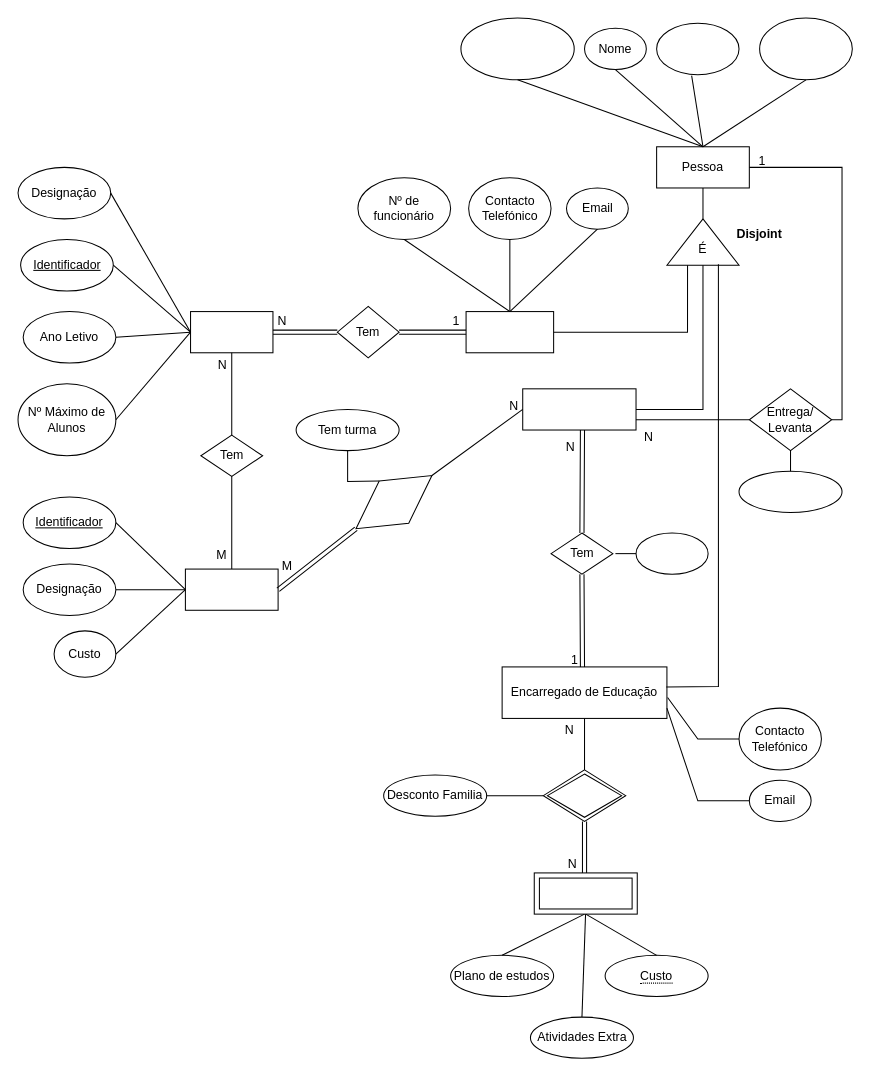
Image size: 870x1076. Some labels were removed from this diagram. Each missing label, with the centre of its shape:
"Aluno" belongs at point (579, 409).
"Atividade" belongs at point (231, 589).
"Autorizado" belongs at point (790, 491).
"Data de Nascimento" belongs at point (805, 48).
"Frequenta" belongs at point (393, 501).
"Mensalidade" belongs at point (585, 893).
"Morada" belongs at point (697, 48).
"Nº de Cartão de Cidadão" belongs at point (517, 48).
"Paga" belongs at point (584, 795).
"Professor" belongs at point (509, 332).
"Relação" belongs at point (671, 553).
"Turmas" belongs at point (231, 332).
